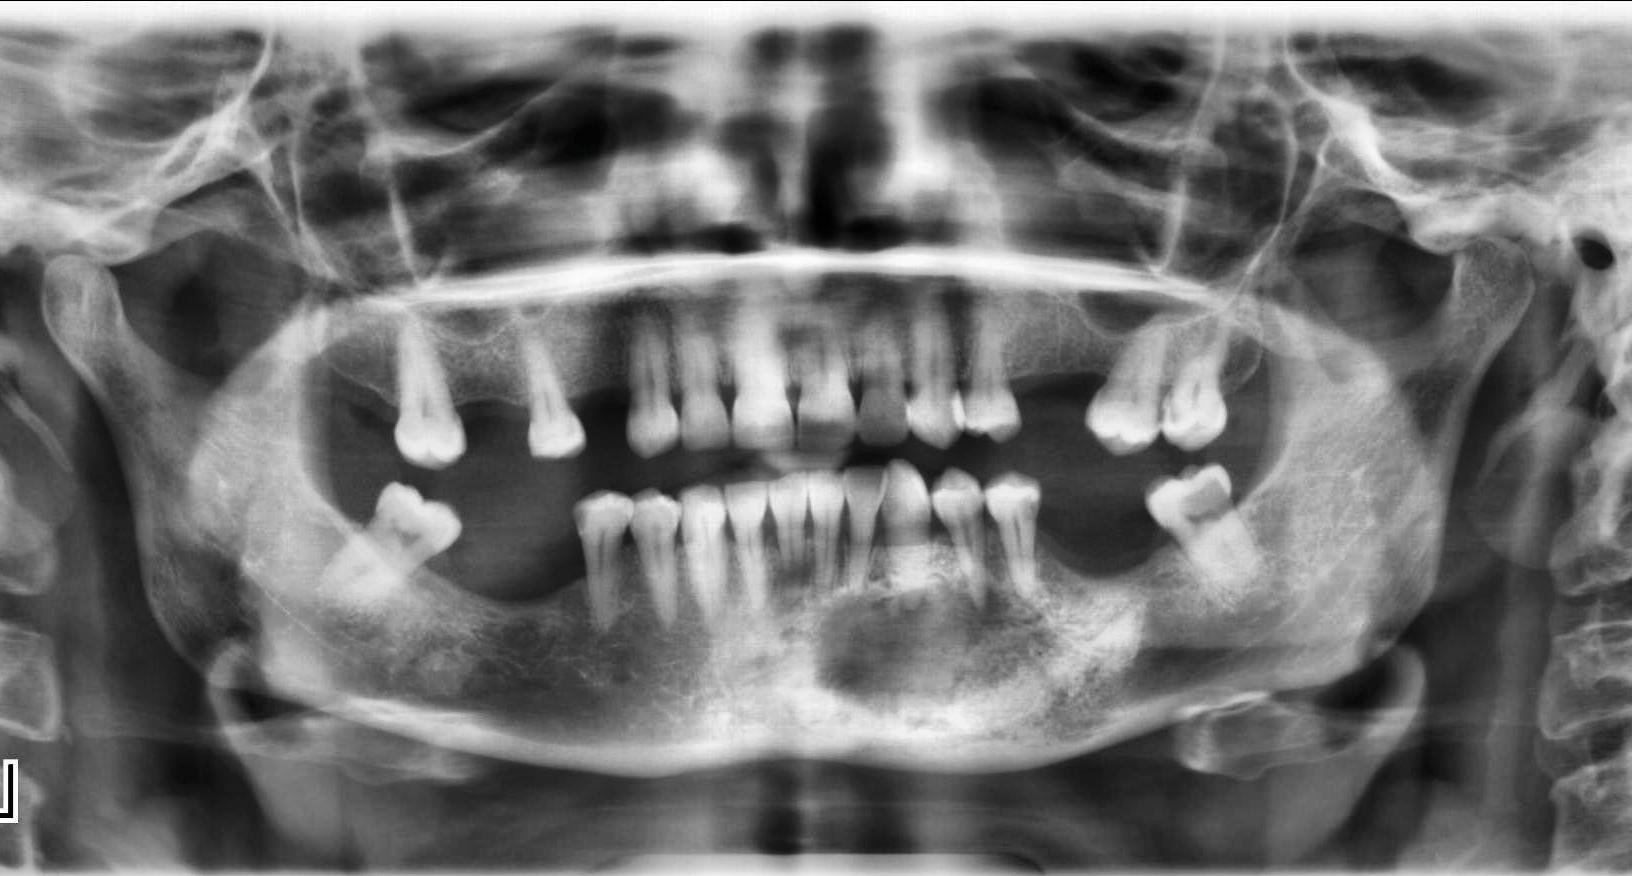keratokist: (812, 576, 1063, 723)
